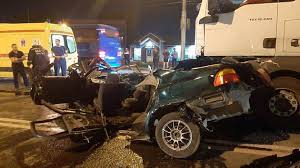car: (56, 49, 252, 157)
